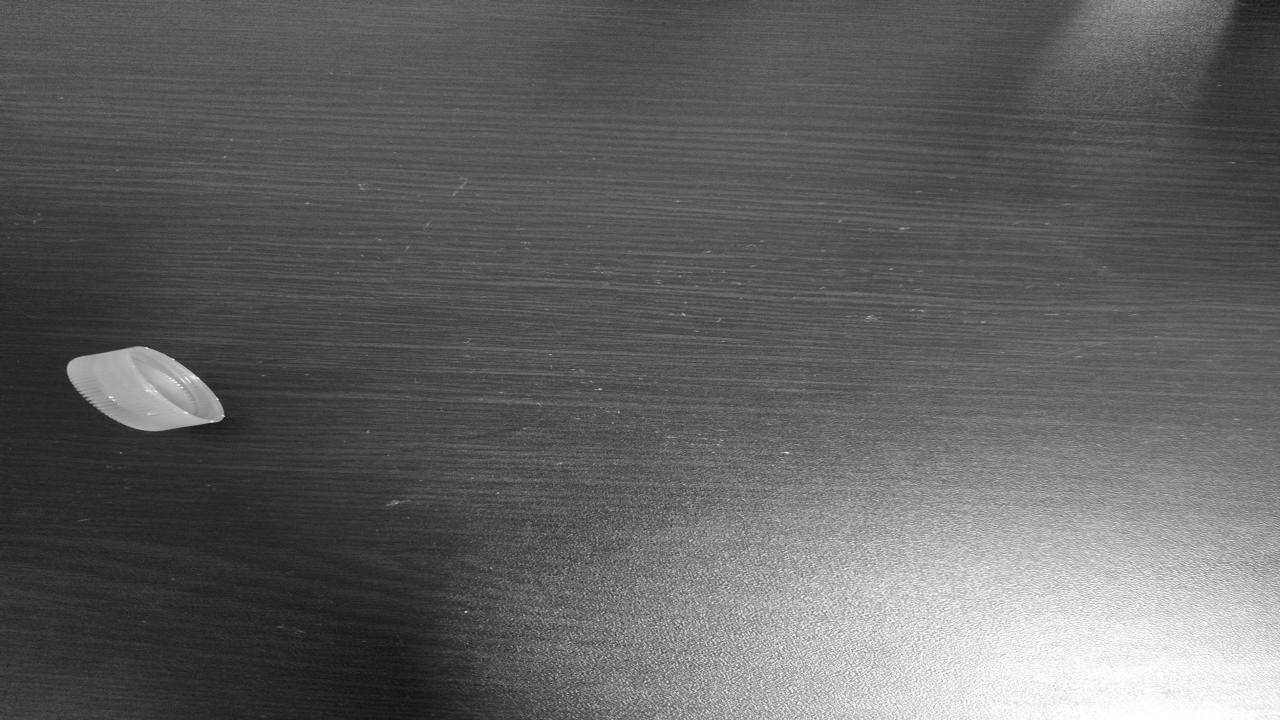bottle_cap: (59, 347, 233, 433)
